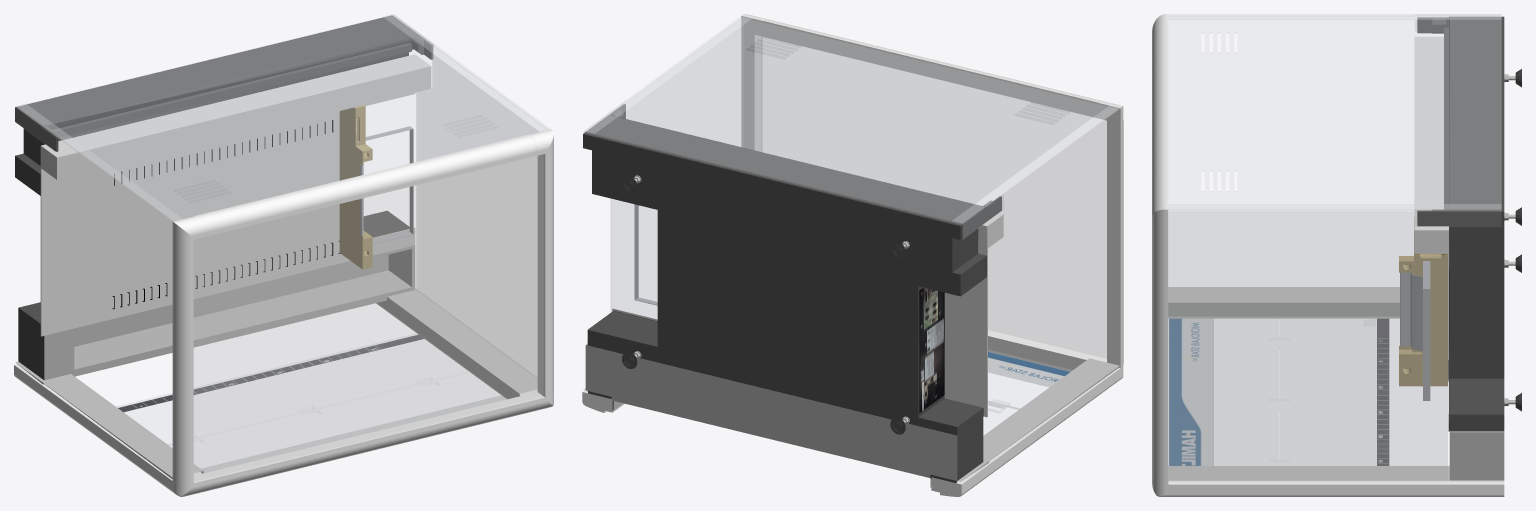
Rendered from STARLet_with_top_panel.glb.
3 views of the same model, side by side, from view 1: azimuth 30°, elevation 25°; view 2: azimuth 150°, elevation 25°; view 3: azimuth 270°, elevation 25° (orthographic). The views are drawn at different scales.
Parts seen in each view (by area): view 1: starlet_base; view 2: starlet_base; view 3: starlet_base.
Part boxes in pixels (box(x1,y1,x2,y2)): starlet_base: box(14, 14, 553, 496); starlet_base: box(582, 14, 1123, 496); starlet_base: box(1152, 14, 1521, 496).
Size of the model in its own units: 1.13 by 0.7926 by 0.903.
15 materials, 4 textured.
